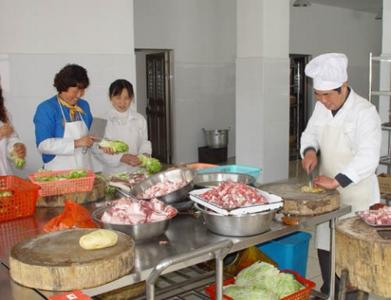person: (299, 51, 384, 300)
